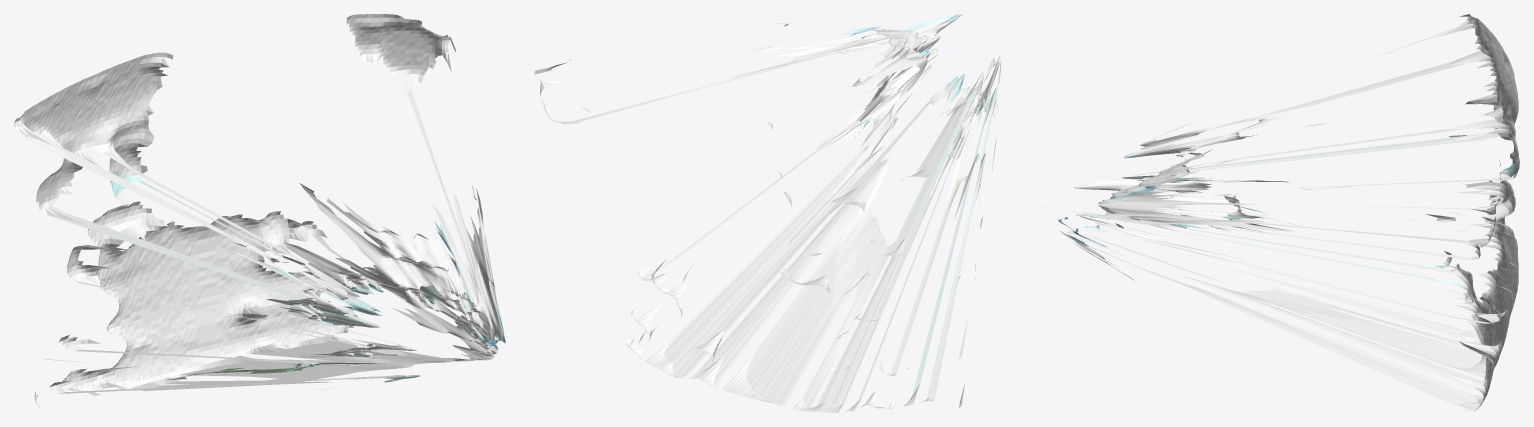
3 renders of one model, left to right at view 1: azimuth 30°, elevation 25°; view 2: azimuth 150°, elevation 25°; view 3: azimuth 270°, elevation 25°, orthographic. The views are drawn at different scales.
Visible parts, largest first — view 1: defaultobject; view 2: defaultobject; view 3: defaultobject.
Boxes of the visible parts, box(x1,y1,x2,y2) form: defaultobject: box(14, 14, 505, 410); defaultobject: box(534, 14, 1001, 412); defaultobject: box(1030, 14, 1519, 411).
Bounding box in the file's own units: 40.2 × 27.28 × 44.15.
1 material, 1 textured.
